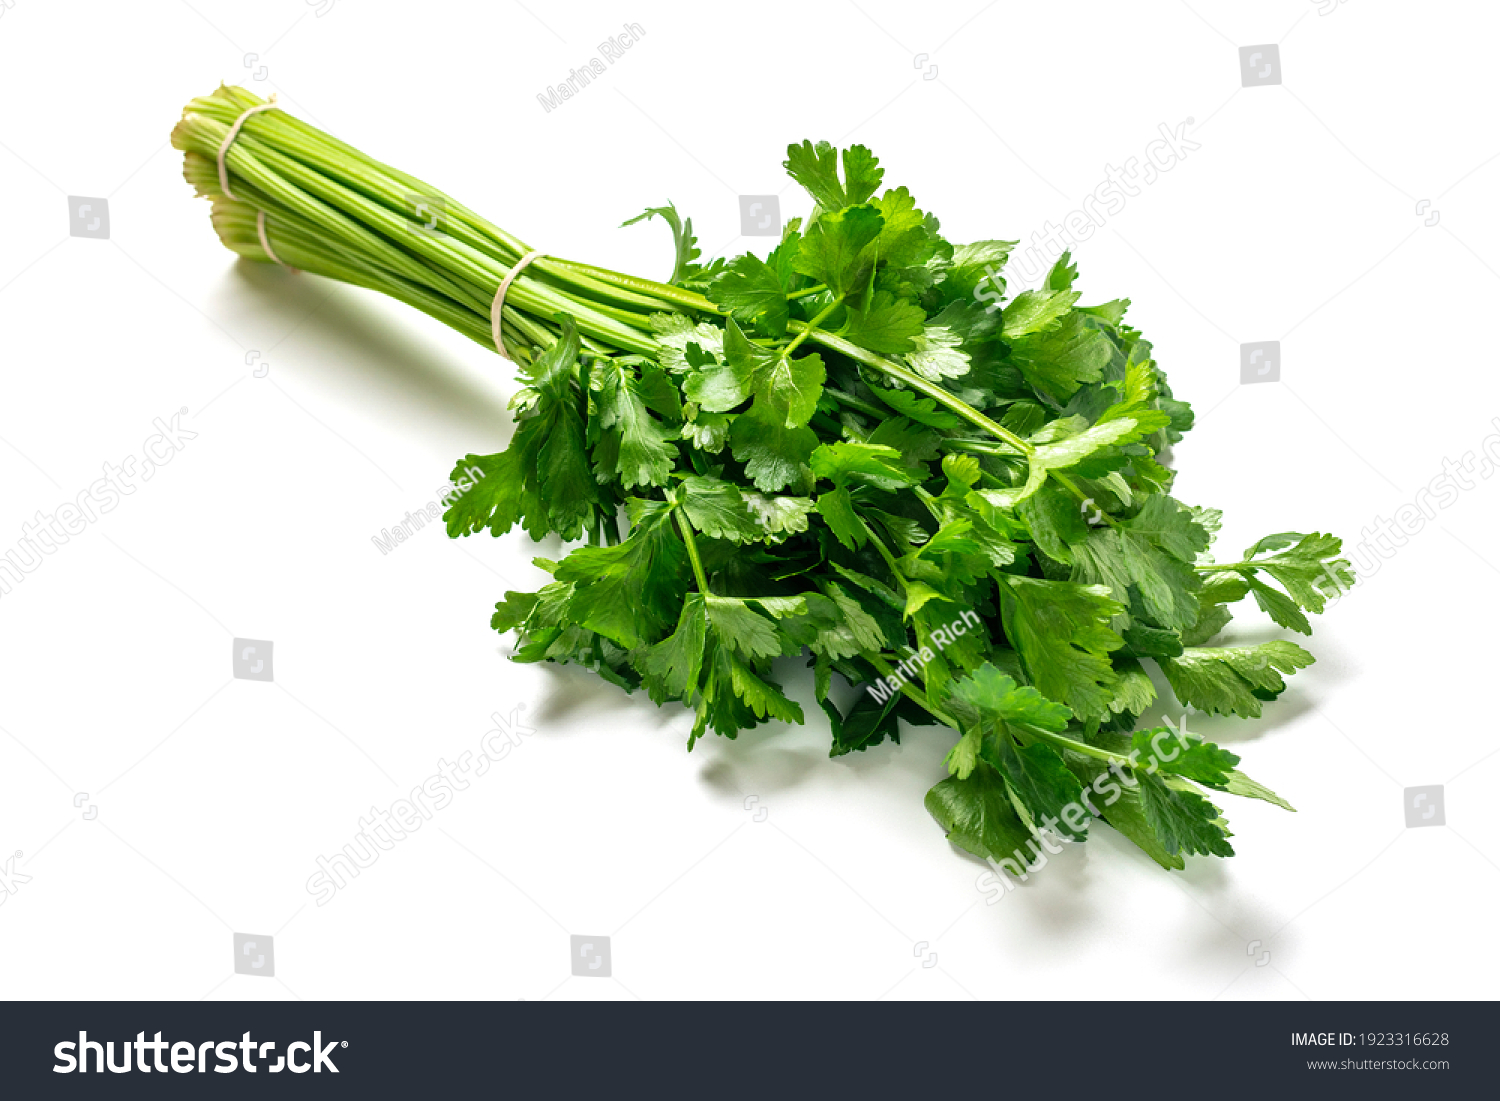Seledri: (200, 105, 1431, 871)
